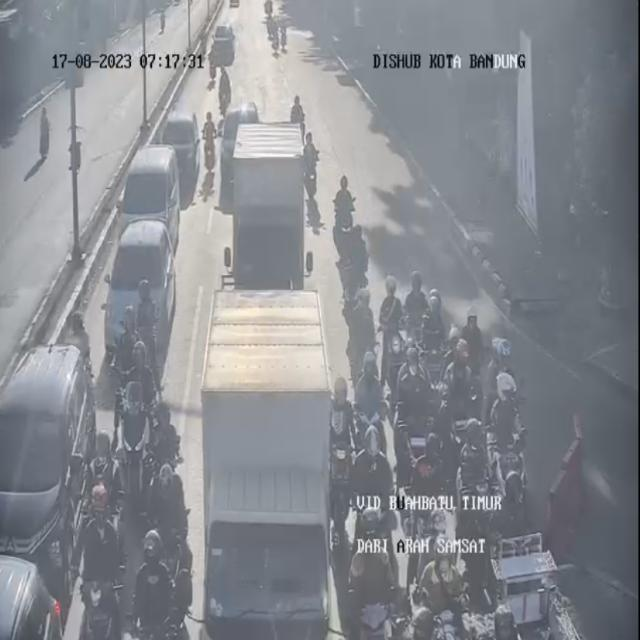cars: (0, 342, 98, 595), (106, 221, 176, 357), (117, 142, 181, 250), (0, 556, 60, 640), (215, 91, 262, 192), (162, 108, 206, 186), (205, 14, 238, 82)
motorcycle: (474, 461, 574, 640), (72, 478, 128, 640), (144, 461, 198, 611), (491, 372, 533, 508), (78, 431, 124, 554), (420, 499, 460, 640), (130, 531, 180, 640), (394, 338, 436, 466), (406, 431, 449, 556), (350, 499, 388, 640), (447, 323, 481, 458), (358, 423, 394, 535), (117, 382, 153, 493), (110, 305, 146, 415), (353, 349, 386, 459), (132, 274, 164, 379), (122, 340, 154, 438), (337, 212, 371, 304), (380, 272, 406, 370), (346, 286, 374, 373), (424, 282, 450, 372), (331, 171, 359, 252), (331, 378, 356, 460), (212, 66, 237, 142), (295, 132, 319, 200), (286, 93, 307, 162), (203, 109, 216, 189)
truck: (200, 289, 338, 640), (232, 119, 308, 296)
